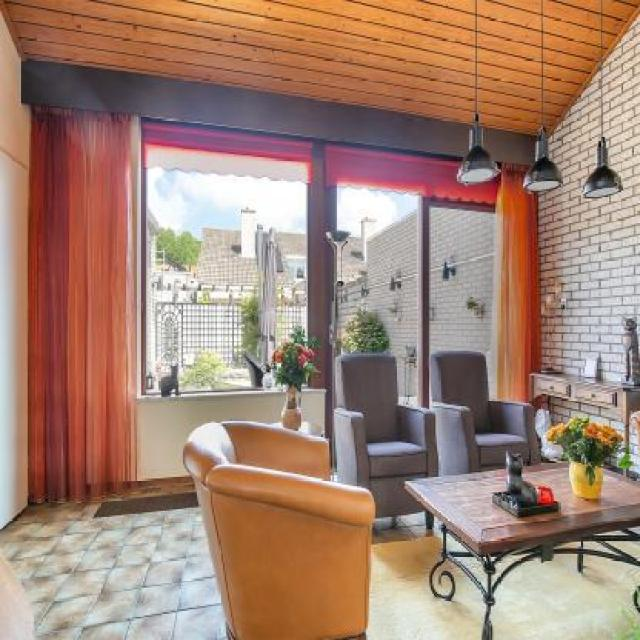floor: (0, 496, 230, 639), (368, 531, 487, 640), (499, 555, 638, 638)
